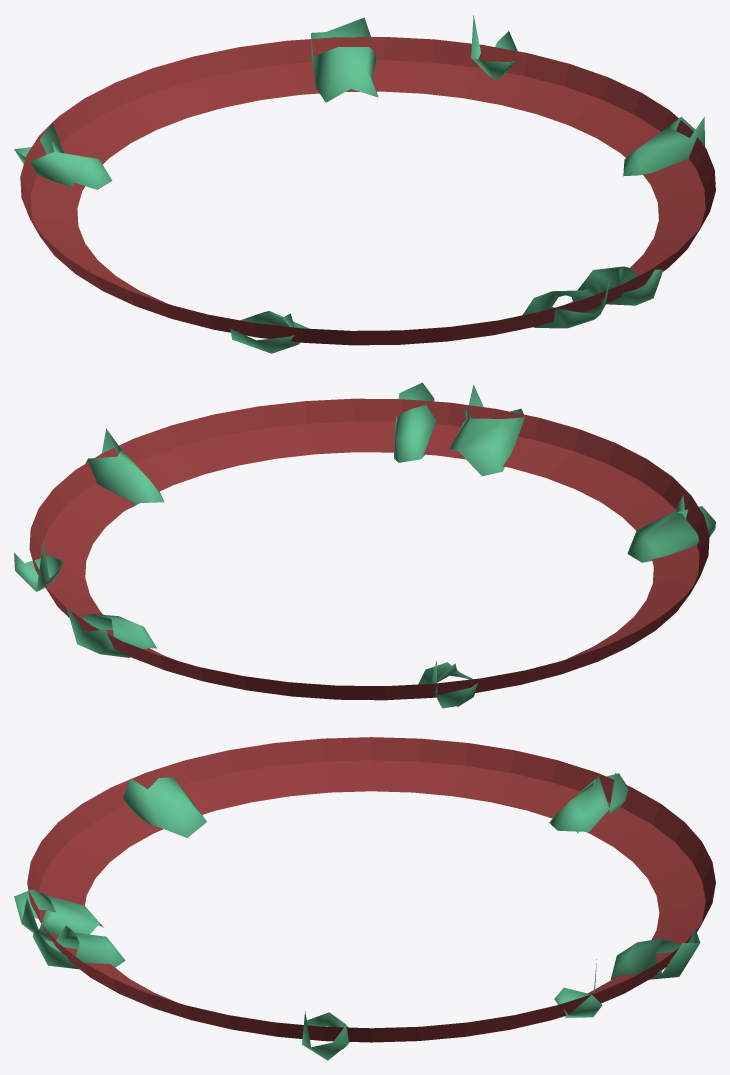
The model's file is fountain_split_eave.fbx.
The picture shows the model from 3 angles, top to bottom: view 1: azimuth 30°, elevation 25°; view 2: azimuth 150°, elevation 25°; view 3: azimuth 270°, elevation 25°; orthographic projection. The views are drawn at different scales.
Visible parts, largest first — view 1: fountain_split_eave; view 2: fountain_split_eave; view 3: fountain_split_eave.
Boxes of the visible parts, x1,y1,x2,y2 form: fountain_split_eave: [14, 15, 715, 353]; fountain_split_eave: [14, 382, 715, 708]; fountain_split_eave: [14, 737, 715, 1060].
Size of the model in its own units: 27.2 by 3.31 by 27.31.
